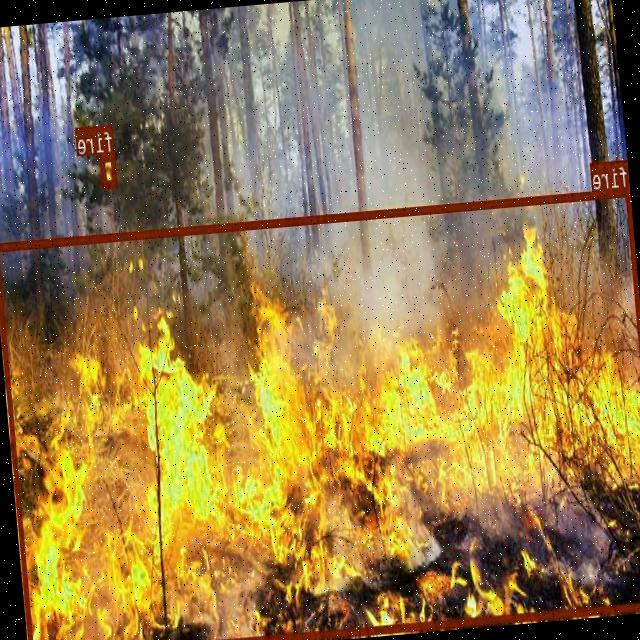fire: (0, 187, 640, 640), (100, 151, 118, 187)
